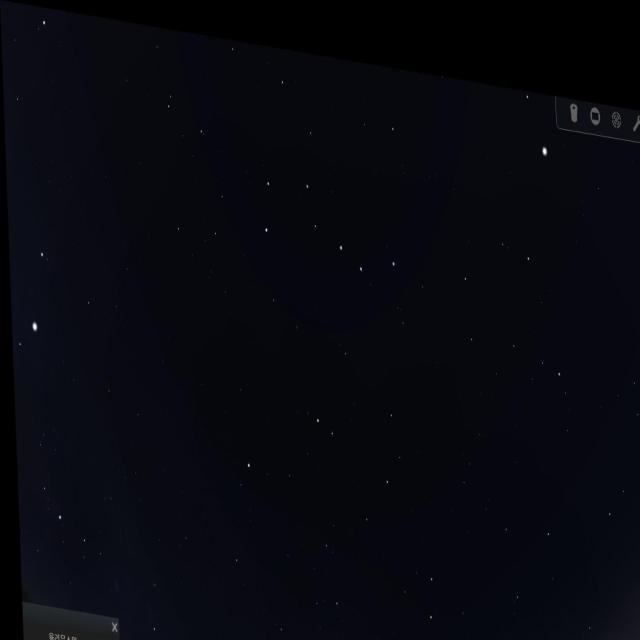ursa_major: (252, 151, 402, 280)
